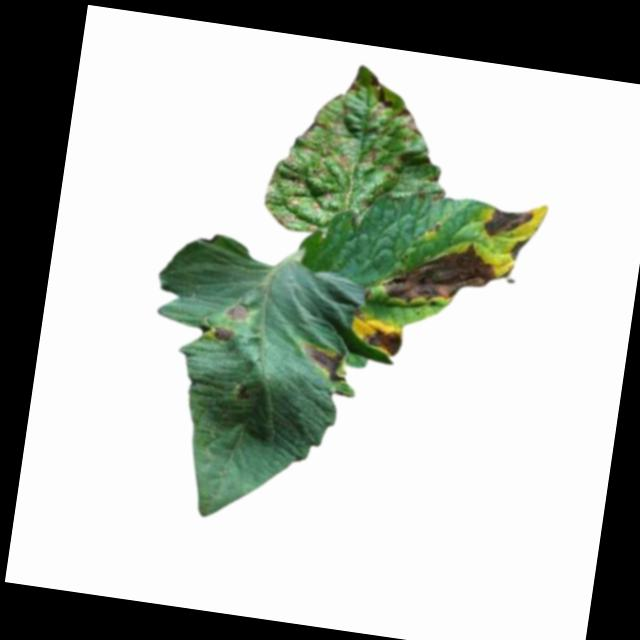Early_blight: (378, 231, 502, 318), (297, 341, 351, 386), (482, 205, 535, 243), (363, 324, 410, 360), (364, 76, 394, 127), (389, 107, 427, 141), (211, 325, 238, 349), (511, 236, 532, 265), (224, 302, 249, 324)
